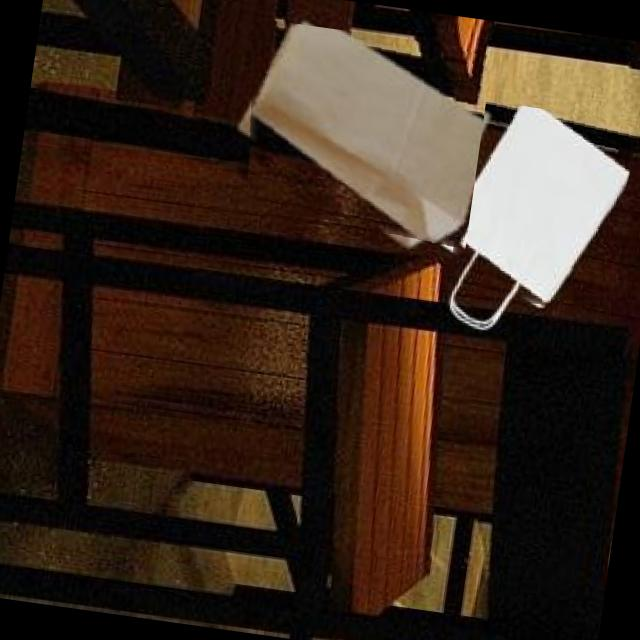PaperCardboard: (249, 24, 481, 243), (454, 107, 628, 307)
